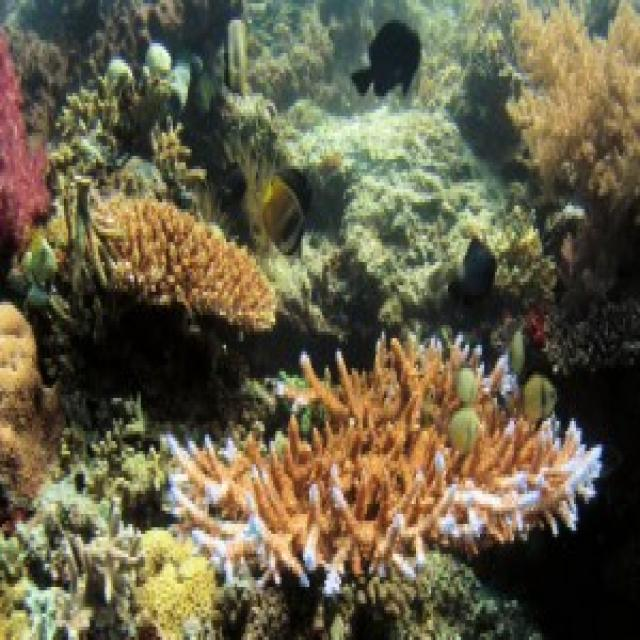Bleached: (293, 107, 492, 303)
Healthy: (178, 339, 598, 578), (16, 61, 204, 343), (1, 303, 138, 638), (507, 4, 639, 217), (95, 193, 274, 329), (1, 31, 48, 246), (140, 532, 219, 638)
